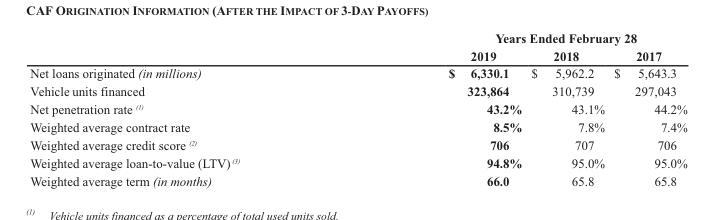table: (29, 28, 686, 189)
table column: (29, 28, 343, 189), (343, 28, 525, 189), (525, 28, 608, 189), (608, 28, 686, 189)
table column header: (29, 28, 686, 63)
table row: (29, 28, 686, 46), (29, 63, 686, 81), (29, 81, 686, 99), (29, 99, 686, 117), (29, 117, 686, 135), (29, 135, 686, 153), (29, 153, 686, 171), (29, 171, 686, 189), (29, 46, 686, 63)
table spanning cell: (343, 28, 686, 46)
